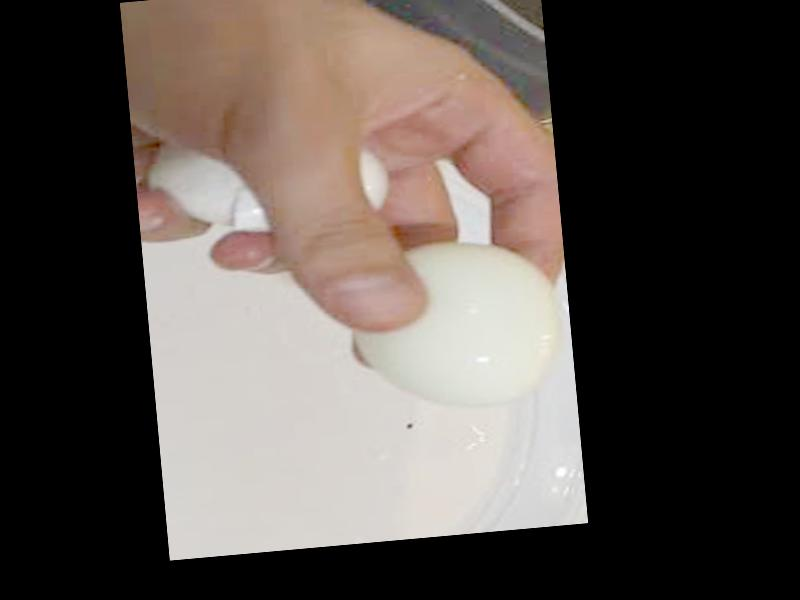Eggs: (344, 232, 573, 413)
